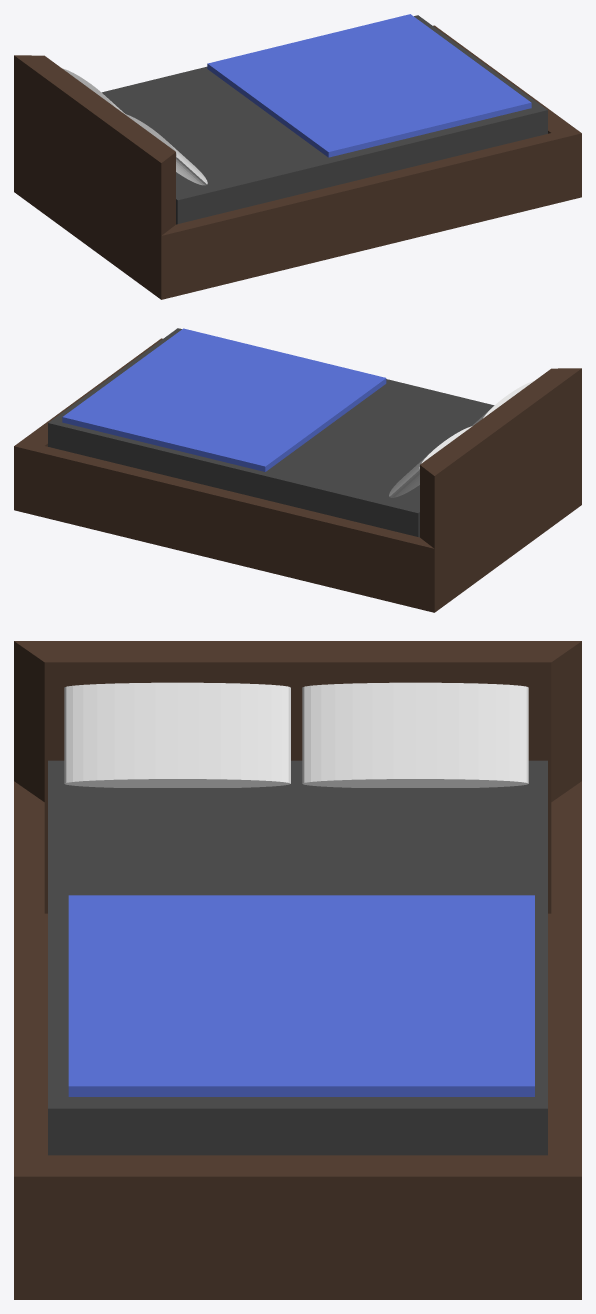
File: Bed.fbx
The picture shows the model from 3 angles, top to bottom: view 1: azimuth 30°, elevation 25°; view 2: azimuth 150°, elevation 25°; view 3: azimuth 270°, elevation 25°; orthographic projection. The views are drawn at different scales.
Parts seen in each view (by area): view 1: Wood Frame, Cube, Mattress, Cylinder; view 2: Wood Frame, Cube, Mattress, Cylinder.001; view 3: Wood Frame, Cube, Mattress, Cylinder, Cylinder.001.
Part boxes in pixels (x1=…): Wood Frame: x1=14, y1=25, x2=581, y2=299; Cube: x1=207, y1=14, x2=531, y2=157; Mattress: x1=102, y1=15, x2=547, y2=224; Cylinder: x1=124, y1=113, x2=207, y2=185; Wood Frame: x1=14, y1=338, x2=581, y2=612; Cube: x1=62, y1=328, x2=386, y2=471; Mattress: x1=48, y1=328, x2=494, y2=537; Cylinder.001: x1=389, y1=426, x2=472, y2=497; Wood Frame: x1=14, y1=641, x2=581, y2=1299; Cube: x1=68, y1=895, x2=534, y2=1096; Mattress: x1=48, y1=760, x2=547, y2=1155; Cylinder: x1=64, y1=682, x2=290, y2=787; Cylinder.001: x1=302, y1=682, x2=528, y2=787.
Bounding box in the file's own units: 474 × 147 × 288.
